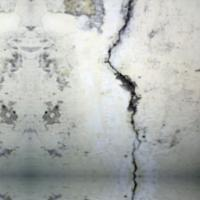crack: (88, 0, 165, 199)
